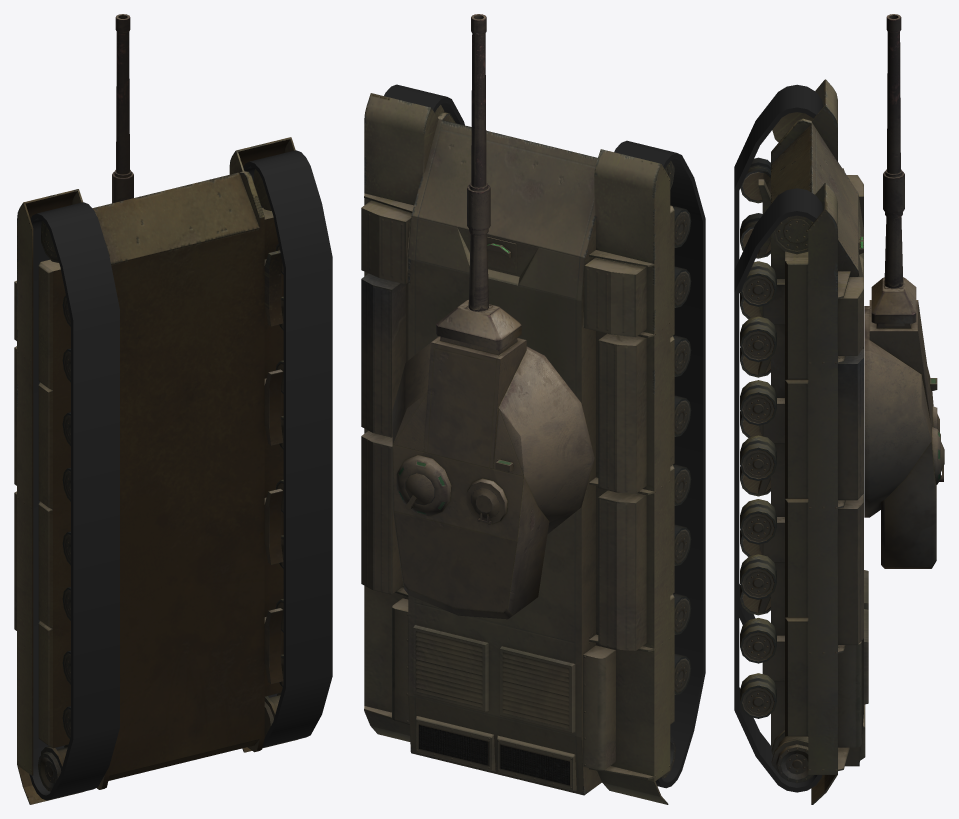
The model's file is HTtest 1.fbx.
3 views of the same model, side by side, from view 1: azimuth 30°, elevation 25°; view 2: azimuth 150°, elevation 25°; view 3: azimuth 270°, elevation 25° (orthographic). The views are drawn at different scales.
Parts seen in each view (by area): view 1: Cube.002, Cylinder.022, Cylinder.021, Cube.001; view 2: Cube.002, Cylinder.001, Cylinder.022, Cube.001, Cylinder.021; view 3: Cube.002, Cylinder.001, Cylinder.021, Cube.001, Cylinder.022.
Boxes of the visible parts, <box> form: Cube.002: <box>14,137,297,804</box>; Cylinder.022: <box>29,202,119,800</box>; Cylinder.021: <box>243,150,332,747</box>; Cube.001: <box>112,14,133,203</box>; Cube.002: <box>361,93,691,804</box>; Cylinder.001: <box>392,336,594,619</box>; Cylinder.022: <box>614,140,705,788</box>; Cube.001: <box>436,14,521,349</box>; Cylinder.021: <box>384,84,464,125</box>; Cube.002: <box>740,79,868,804</box>; Cylinder.001: <box>864,300,944,568</box>; Cylinder.021: <box>734,188,823,792</box>; Cube.001: <box>871,14,916,323</box>; Cylinder.022: <box>734,84,823,625</box>.
Bounding box in the file's own units: 246 × 637 × 168.
